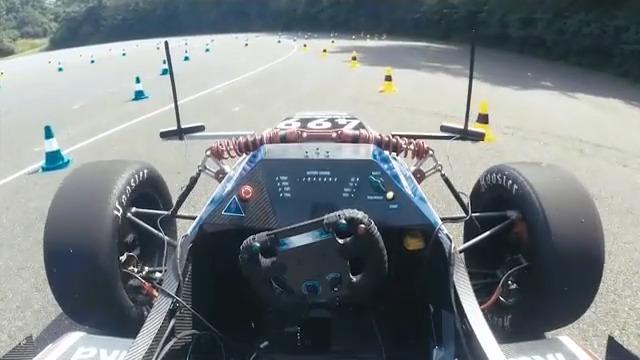blue_cone: (41, 125, 69, 174), (132, 76, 148, 102), (161, 60, 171, 75), (183, 49, 191, 62), (56, 61, 64, 72), (90, 54, 95, 64), (205, 44, 211, 52), (122, 48, 127, 56)
yellow_cone: (466, 101, 494, 143), (378, 68, 396, 93), (347, 49, 358, 69), (321, 46, 328, 59), (0, 70, 6, 81), (302, 44, 309, 53), (48, 59, 53, 68), (78, 53, 83, 61), (109, 48, 114, 56), (331, 39, 335, 48)
